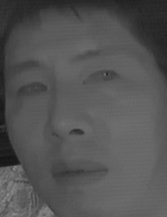eye: (81, 65, 121, 91), (15, 78, 49, 101)
mouth: (48, 155, 109, 191)
